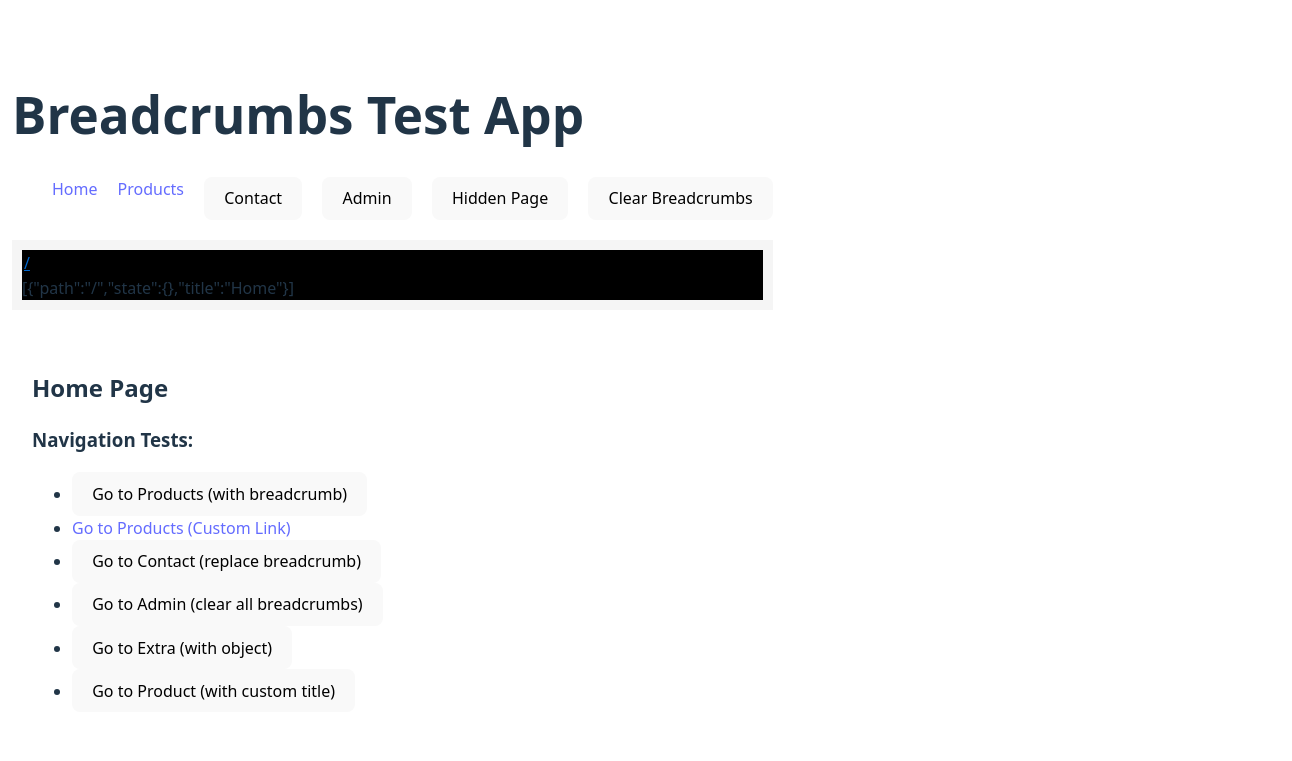
Test: #navigateWithBreadcrumbs() › Adds entry to breadcrumbs stack
Click the button with test id "buttonLink-products": (220, 494) [72, 472, 367, 516]
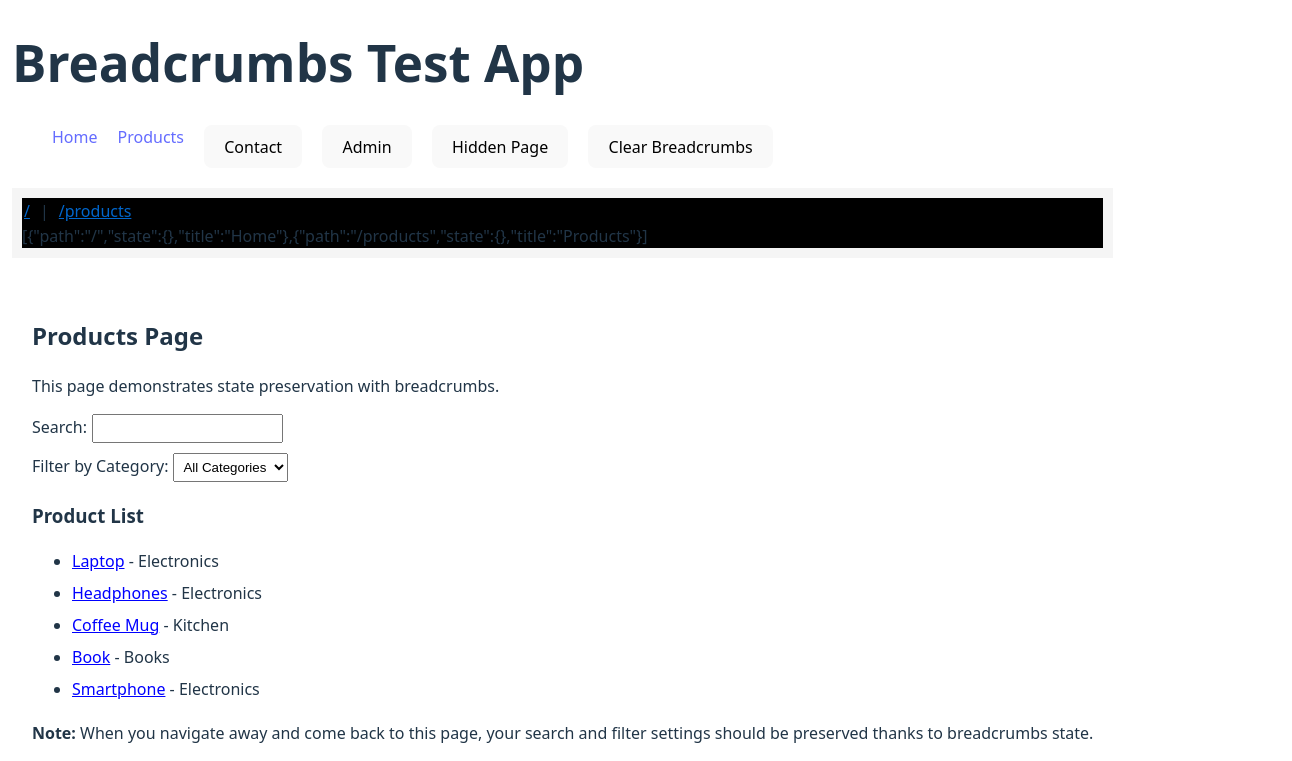
Expected: the button "/products" is shown, [57, 198, 133, 224]
